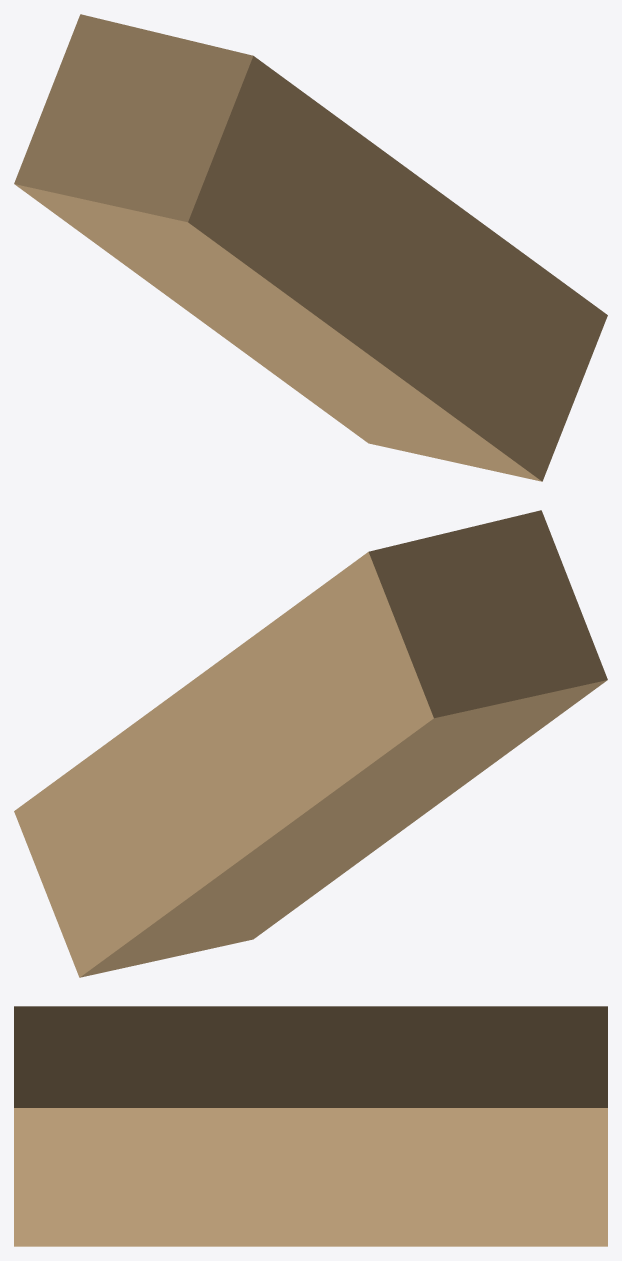
3 renders of one model, top to bottom at view 1: azimuth 30°, elevation 25°; view 2: azimuth 150°, elevation 25°; view 3: azimuth 270°, elevation 25°, orthographic. The views are drawn at different scales.
Parts seen in each view (by area): view 1: 0_3_2_2_0_3_0_3_2_3_1; view 2: 0_3_2_2_0_3_0_3_2_3_1; view 3: 0_3_2_2_0_3_0_3_2_3_1.
Part boxes in pixels (x1,y1,x2,y2): 0_3_2_2_0_3_0_3_2_3_1: [14, 14, 607, 481]; 0_3_2_2_0_3_0_3_2_3_1: [14, 510, 607, 977]; 0_3_2_2_0_3_0_3_2_3_1: [14, 1006, 607, 1246].
Bounding box in the file's own units: 9.36 × 8.76 × 24.
